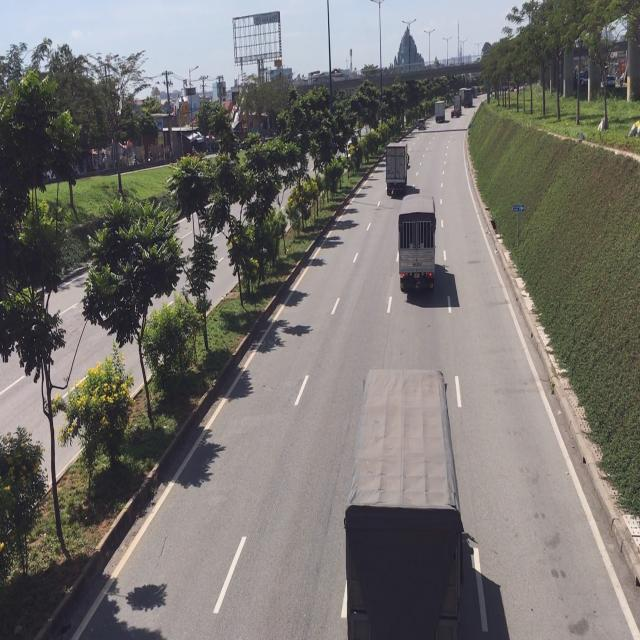truck: (342, 366, 464, 634), (398, 192, 435, 293), (384, 140, 408, 196)
